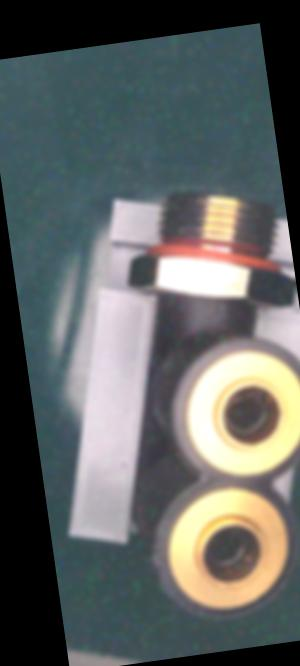off-centered: (217, 384, 278, 440)
white mark: (196, 308, 217, 328), (215, 297, 227, 318)
